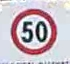limite 50: (9, 8, 56, 54)
